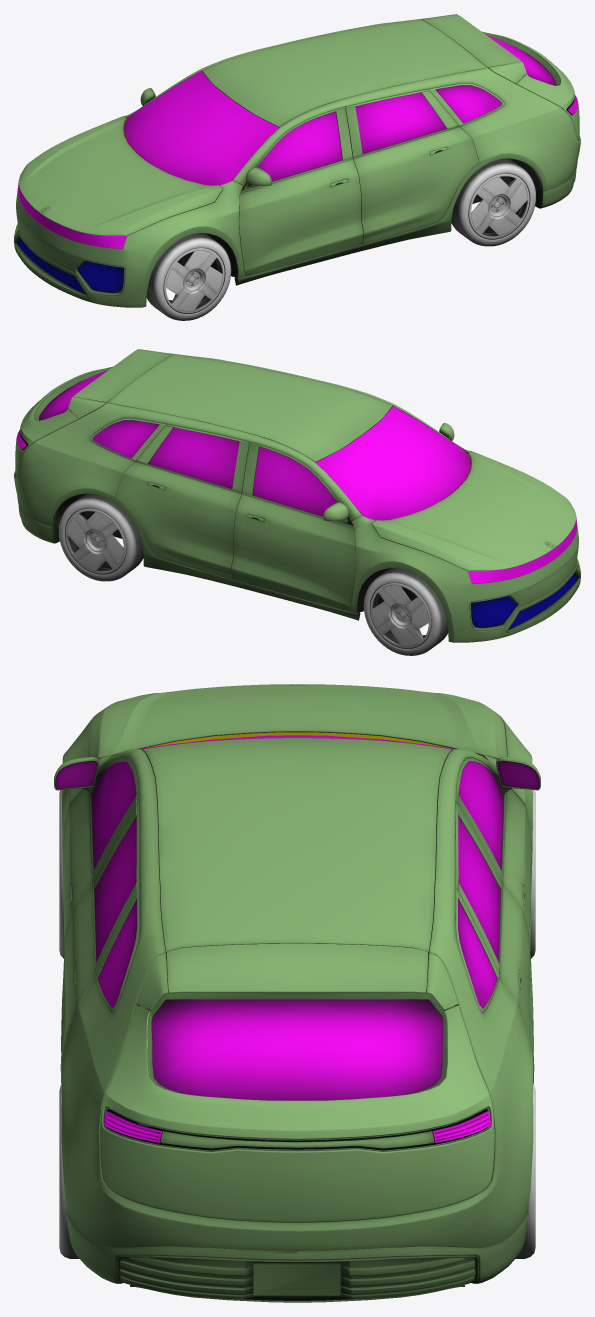
File: unityCar.fbx
The picture shows the model from 3 angles, top to bottom: view 1: azimuth 30°, elevation 25°; view 2: azimuth 150°, elevation 25°; view 3: azimuth 270°, elevation 25°; orthographic projection. The views are drawn at different scales.
Parts seen in each view (by area): view 1: frame_roof_panel_MESH_00, frunk_MESH_00, frame_rear_quarter_pane_MESH_00, Windshield_MESH_00, door_left_front_outer_panel_MESH_00, door_left_rear_outer_panel_MESH_00, frame_front_fender_MESH_00, Wheel_Front_Left, door_left_rear_window_MESH_00, door_left_front_window_MESH_00, Wheel_rear_left_tire_MESH_00, trunk_rear_roof_panel_MESH_00 (+19 smaller); view 2: frame_roof_panel_MESH_00, frunk_MESH_00, frame_rear_quarter_pane_MESH_00, Windshield_MESH_00, door_right_front_outer_panel_MESH_00, door_right_rear_outer_panel_MESH_00, frame_front_fender_MESH_00, door_right_rear_window_MESH_00, door_right_front_window_MESH_00, Wheel_Front_right_tire_MESH_00, Wheel_rear_right_tire_MESH_00, trunk_rear_roof_panel_MESH_00 (+21 smaller); view 3: frame_roof_panel_MESH_00, frame_rear_quarter_pane_MESH_00, trunk_liftgate_outer_panel_MESH_00, trunk_rear_glass_MESH_00, frunk_MESH_00, trunk_rear_roof_panel_MESH_00, frame_bumper_insert_MESH_00, frame_bumper_fascia_MESH_00, C_pillar_quarter_glass_MESH_00, door_left_rear_outer_panel_MESH_00, door_right_rear_outer_panel_MESH_00, door_left_front_outer_panel_MESH_00 (+21 smaller).
Boxes of the visible parts, x1=… form: frame_roof_panel_MESH_00: x1=202, y1=19, x2=487, y2=127; frunk_MESH_00: x1=18, y1=116, x2=222, y2=235; frame_rear_quarter_pane_MESH_00: x1=137, y1=19, x2=580, y2=281; Windshield_MESH_00: x1=124, y1=71, x2=279, y2=185; door_left_front_outer_panel_MESH_00: x1=239, y1=159, x2=363, y2=275; door_left_rear_outer_panel_MESH_00: x1=353, y1=127, x2=478, y2=244; frame_front_fender_MESH_00: x1=14, y1=110, x2=245, y2=307; Wheel_Front_Left: x1=146, y1=233, x2=231, y2=320; door_left_rear_window_MESH_00: x1=355, y1=92, x2=446, y2=153; door_left_front_window_MESH_00: x1=257, y1=111, x2=342, y2=181; Wheel_rear_left_tire_MESH_00: x1=451, y1=158, x2=535, y2=246; trunk_rear_roof_panel_MESH_00: x1=422, y1=14, x2=521, y2=67; frame_roof_panel_MESH_00: x1=107, y1=354, x2=392, y2=462; frunk_MESH_00: x1=372, y1=451, x2=576, y2=570; frame_rear_quarter_pane_MESH_00: x1=14, y1=354, x2=457, y2=616; Windshield_MESH_00: x1=315, y1=406, x2=470, y2=520; door_right_front_outer_panel_MESH_00: x1=231, y1=494, x2=355, y2=610; door_right_rear_outer_panel_MESH_00: x1=116, y1=462, x2=241, y2=579; frame_front_fender_MESH_00: x1=349, y1=445, x2=580, y2=642; door_right_rear_window_MESH_00: x1=148, y1=427, x2=239, y2=488; door_right_front_window_MESH_00: x1=252, y1=446, x2=337, y2=516; Wheel_Front_right_tire_MESH_00: x1=363, y1=568, x2=448, y2=655; Wheel_rear_right_tire_MESH_00: x1=59, y1=493, x2=143, y2=581; trunk_rear_roof_panel_MESH_00: x1=73, y1=349, x2=172, y2=402; frame_roof_panel_MESH_00: x1=143, y1=738, x2=451, y2=953; frame_rear_quarter_pane_MESH_00: x1=61, y1=749, x2=533, y2=1250; trunk_liftgate_outer_panel_MESH_00: x1=100, y1=1005, x2=494, y2=1222; trunk_rear_glass_MESH_00: x1=151, y1=999, x2=443, y2=1100; frunk_MESH_00: x1=88, y1=684, x2=506, y2=758; trunk_rear_roof_panel_MESH_00: x1=166, y1=943, x2=428, y2=993; frame_bumper_insert_MESH_00: x1=119, y1=1257, x2=475, y2=1299; frame_bumper_fascia_MESH_00: x1=66, y1=1209, x2=528, y2=1283; C_pillar_quarter_glass_MESH_00: x1=97, y1=899, x2=497, y2=1008; door_left_rear_outer_panel_MESH_00: x1=60, y1=884, x2=95, y2=1070; door_right_rear_outer_panel_MESH_00: x1=499, y1=884, x2=534, y2=1070; door_left_front_outer_panel_MESH_00: x1=61, y1=789, x2=91, y2=1023.
Bounding box in the file's own units: 490 × 151 × 201.
